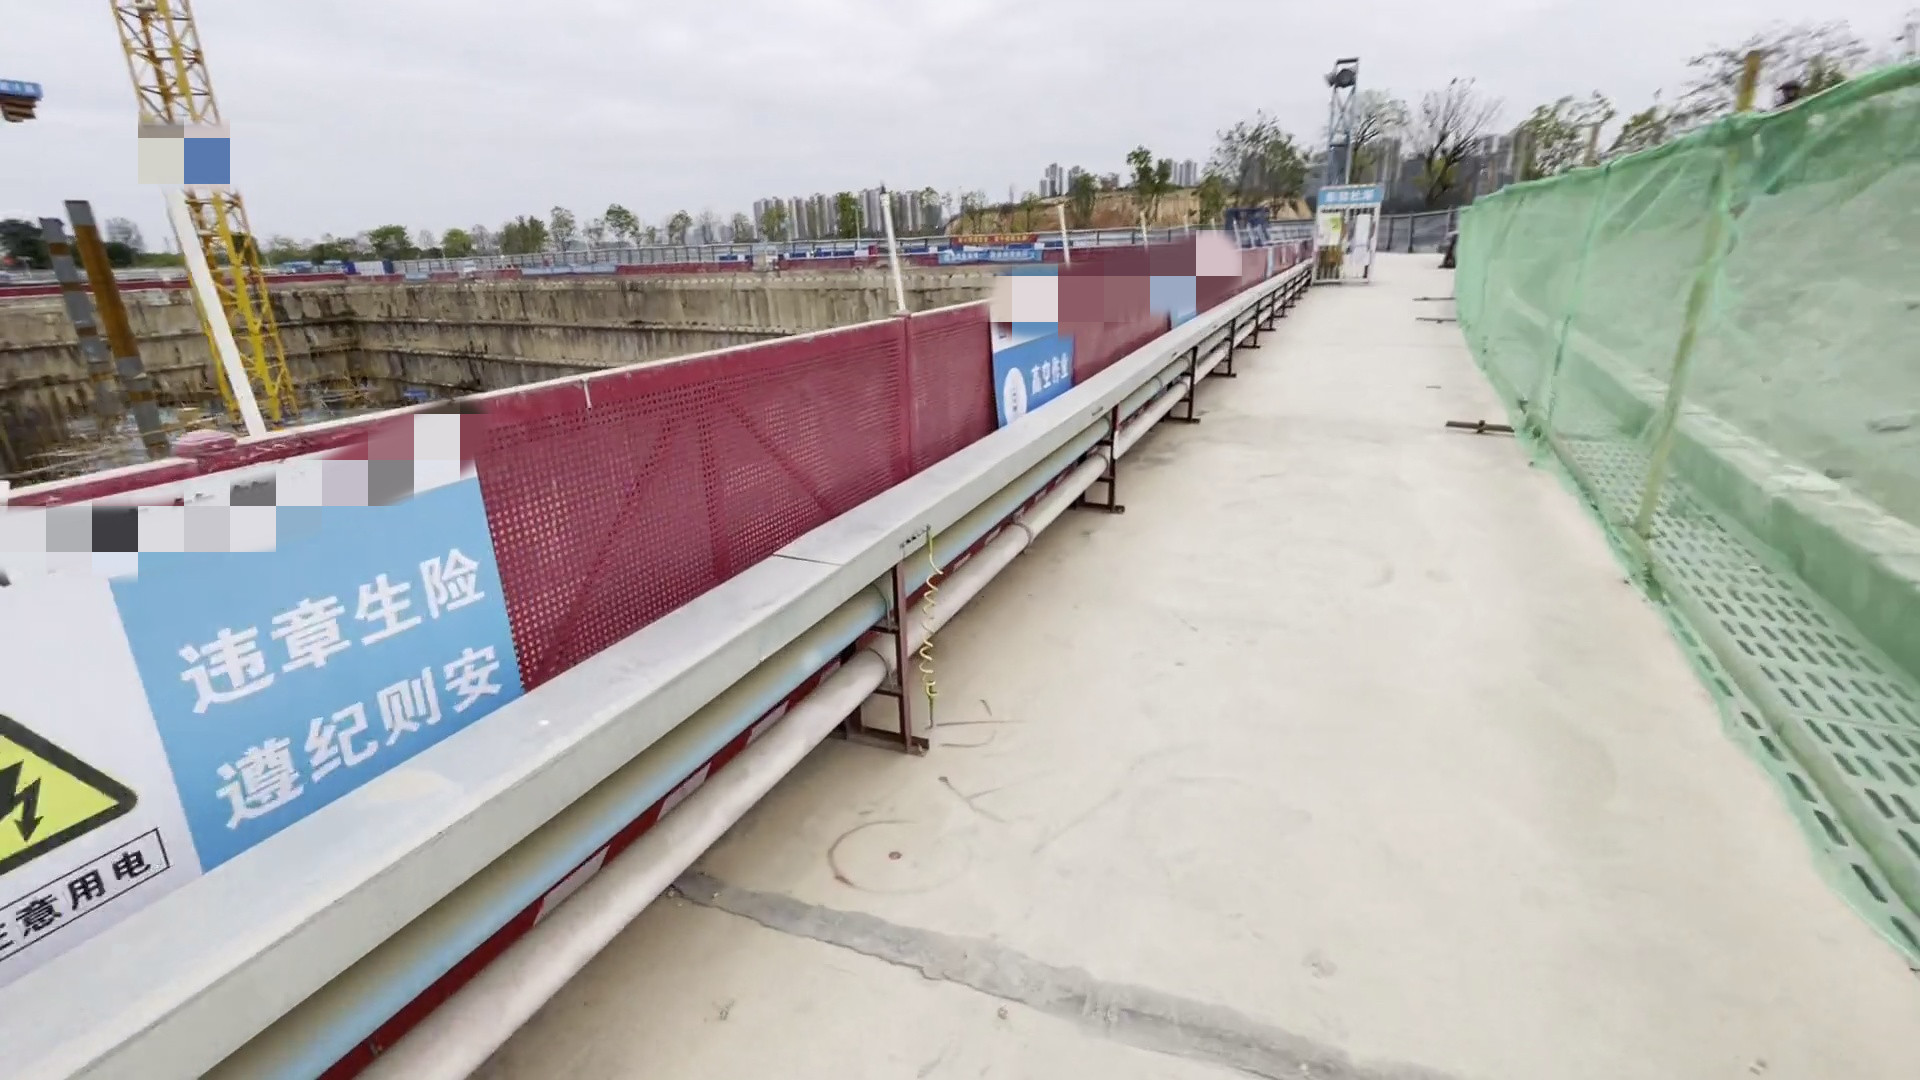fence: (1, 233, 1327, 993)
slogan: (169, 531, 524, 781), (1018, 345, 1102, 409), (1319, 178, 1379, 208), (938, 249, 1058, 262), (953, 228, 1046, 243)
